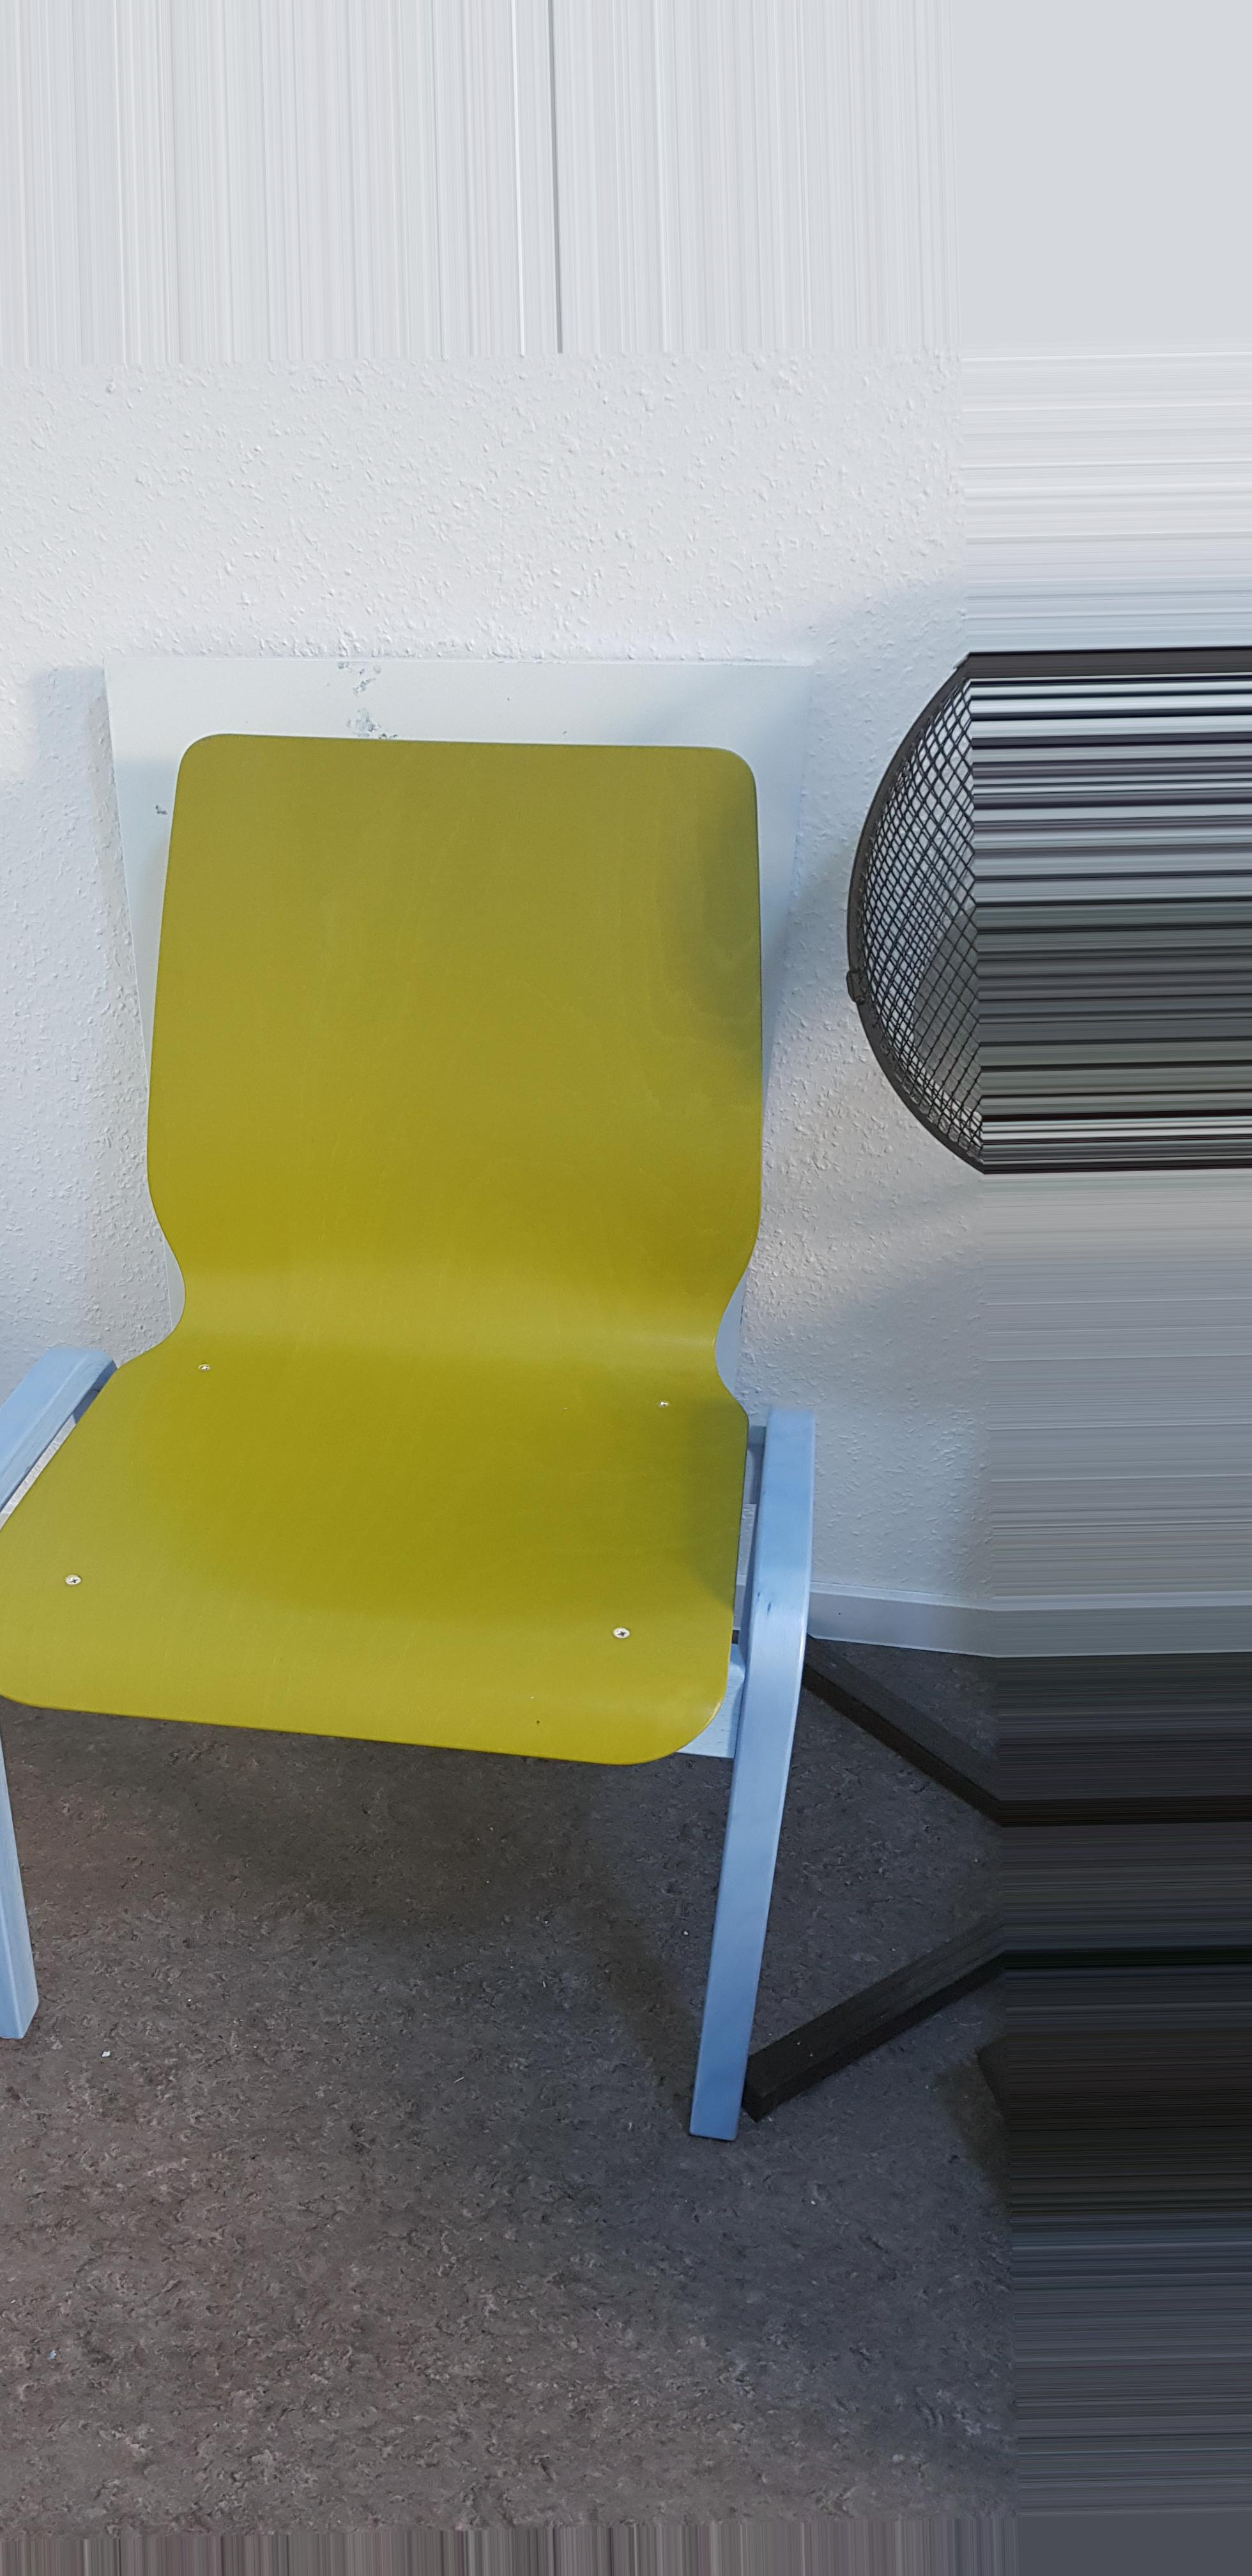chair: (0, 729, 813, 2149)
